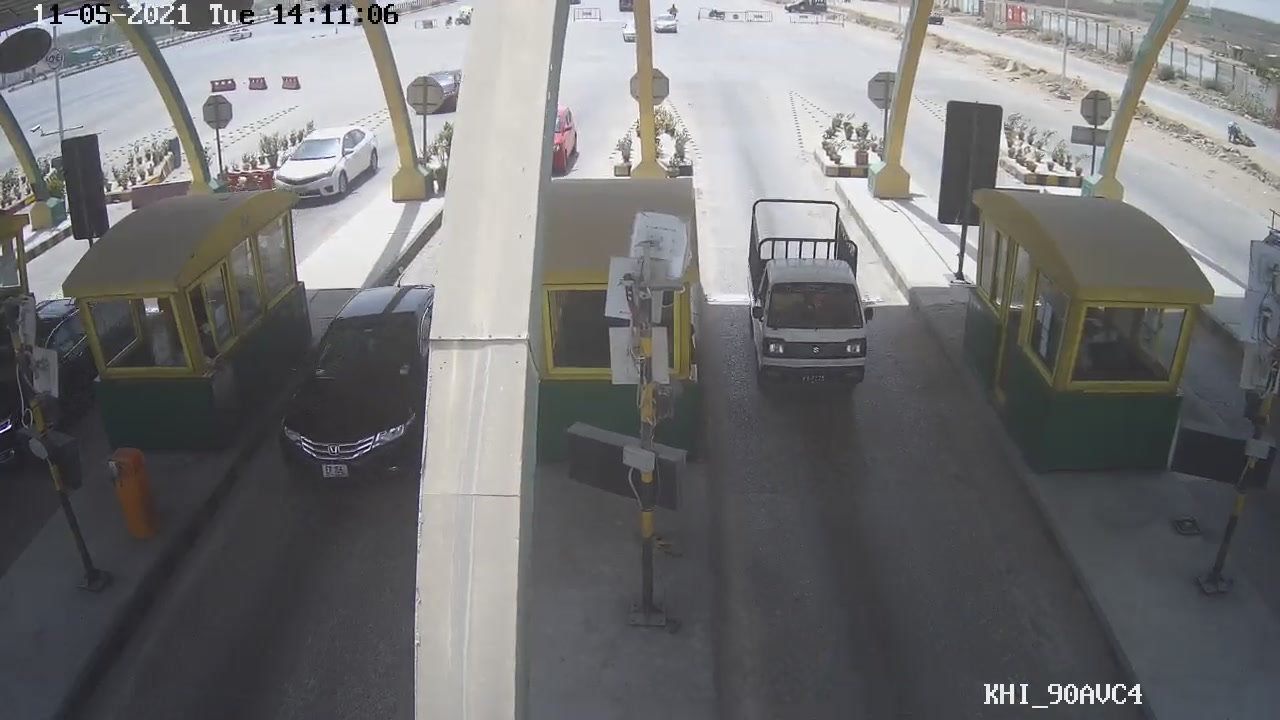F1: (738, 192, 882, 401)
